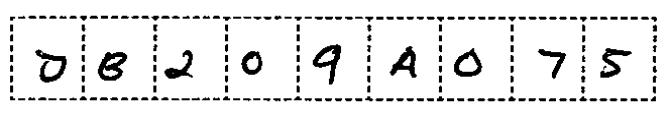0: (448, 44, 490, 82), (234, 43, 270, 81)
2: (163, 46, 200, 86)
5: (592, 43, 638, 82)
7: (529, 45, 573, 86)
9: (308, 39, 346, 89)
A: (385, 42, 423, 84)
B: (94, 49, 132, 86)
J: (30, 42, 73, 90)
